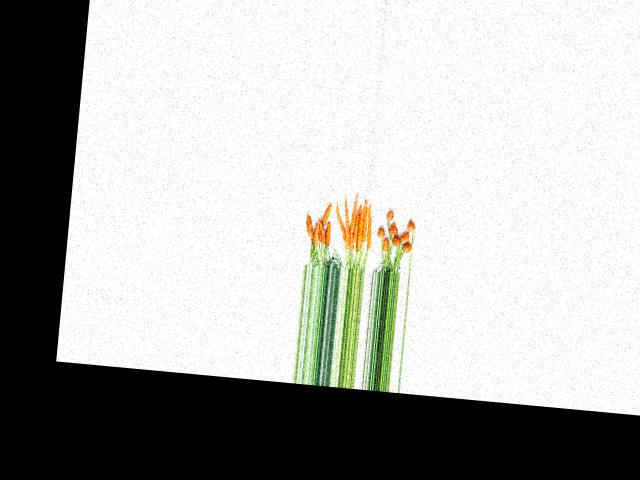carrot: (404, 216, 416, 231)
